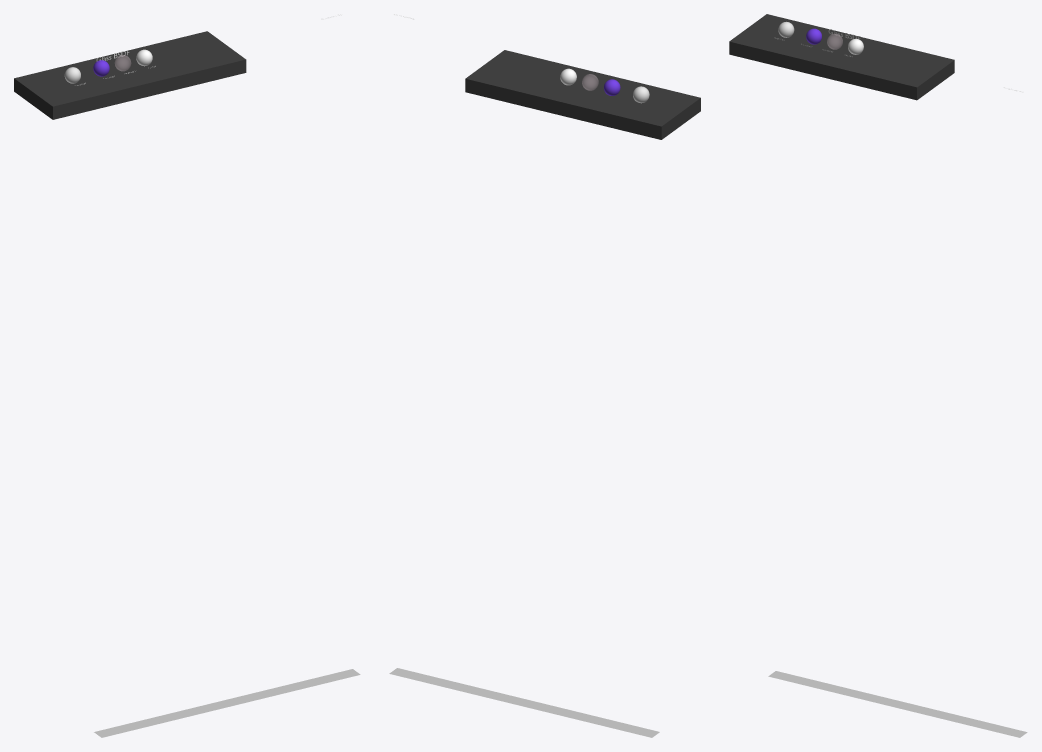
Rendered from glass02.gltf.
3 renders of one model, left to right at view 1: azimuth 30°, elevation 25°; view 2: azimuth 150°, elevation 25°; view 3: azimuth 330°, elevation 25°, orthographic. The views are drawn at different scales.
Visible parts, largest first — view 1: Plane, Plane.001; view 2: Plane, Plane.001; view 3: Plane, Plane.001.
Part boxes in pixels (bbox=[...]): Plane: bbox=[14, 31, 246, 119]; Plane.001: bbox=[94, 669, 360, 737]; Plane: bbox=[465, 50, 700, 139]; Plane.001: bbox=[389, 668, 659, 737]; Plane: bbox=[729, 14, 954, 100]; Plane.001: bbox=[768, 671, 1027, 737].
Size of the model in its own units: 21.2 by 43.64 by 5.22.
